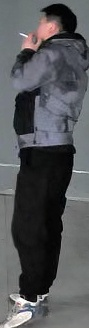smoking: (7, 0, 86, 86)
